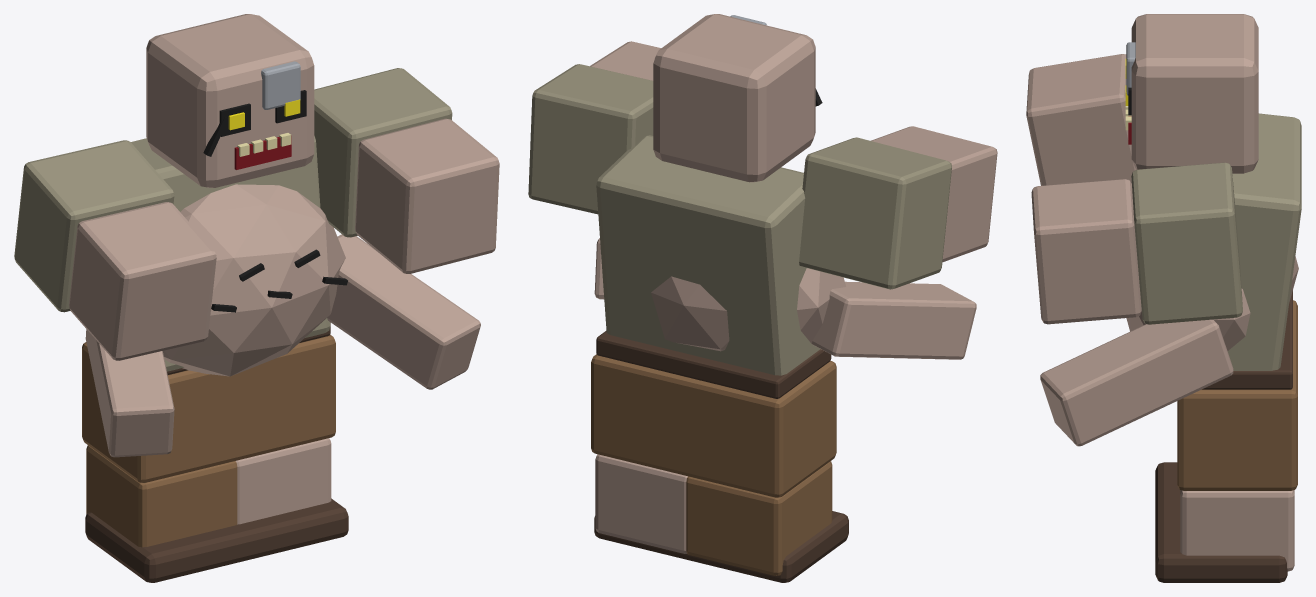
The model's file is zombi_abominacion.fbx.
The picture shows the model from 3 angles, left to right: view 1: azimuth 30°, elevation 25°; view 2: azimuth 150°, elevation 25°; view 3: azimuth 270°, elevation 25°; orthographic projection. The views are drawn at different scales.
Parts seen in each view (by area): view 1: Torso, LeftArm, RightArm, LeftLeg, Head, RightLeg; view 2: Torso, LeftLeg, LeftArm, Head, RightLeg, RightArm; view 3: Torso, RightArm, RightLeg, Head, LeftArm, LeftLeg.
Boxes of the visible parts, box(x1,y1,x2,y2) form: Torso: box(85, 136, 480, 457); LeftArm: box(14, 140, 216, 360); RightArm: box(314, 68, 499, 273); LeftLeg: box(82, 342, 252, 582); Head: box(146, 14, 314, 187); RightLeg: box(235, 334, 348, 559); Torso: box(594, 135, 976, 398); LeftLeg: box(683, 361, 848, 582); LeftArm: box(799, 126, 997, 289); Head: box(653, 14, 822, 182); RightLeg: box(591, 354, 691, 560); RightArm: box(528, 41, 660, 214); Torso: box(1040, 113, 1301, 446); RightArm: box(1031, 162, 1242, 324); RightLeg: box(1155, 345, 1297, 582); Head: box(1125, 14, 1258, 173); LeftArm: box(1026, 54, 1136, 185); LeftLeg: box(1155, 300, 1297, 514).
Bounding box in the file's own units: 712 × 887 × 442.
Materials: 1 (1 with a texture image).
